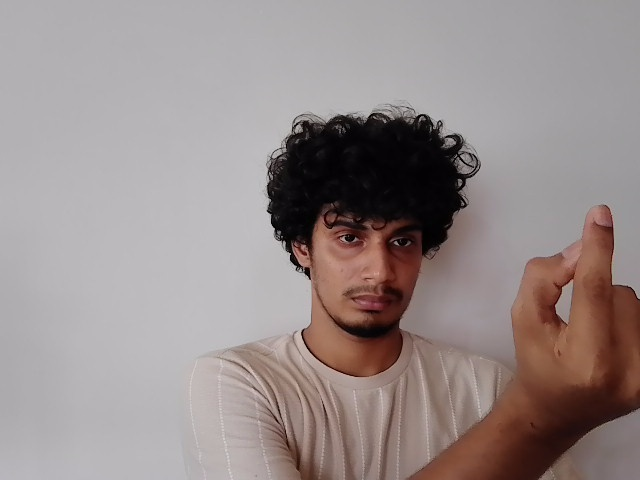just: (512, 205, 640, 412)
